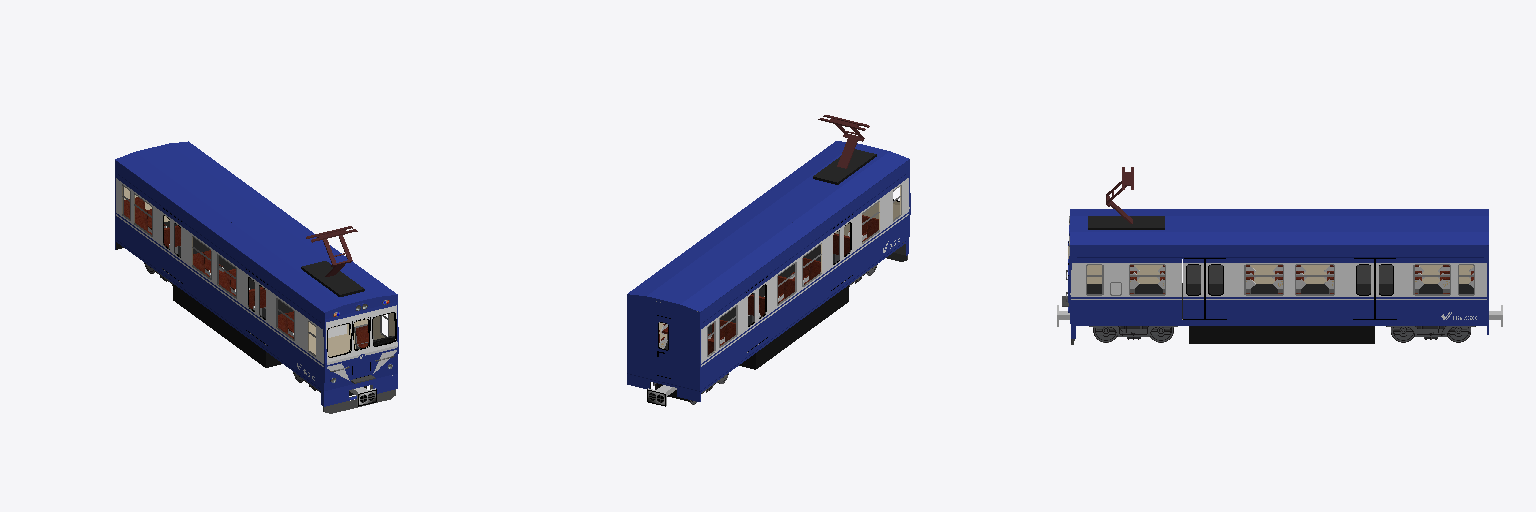
3 renders of one model, left to right at view 1: azimuth 30°, elevation 25°; view 2: azimuth 150°, elevation 25°; view 3: azimuth 270°, elevation 25°, orthographic.
Visible parts, largest first — view 1: body, body_inside, bogies, pantograph, door_RF, door_RB; view 2: body, body_inside, bogies, pantograph, door_RF, door_RB; view 3: body, bogies, body_inside, door_LF, door_LB, pantograph, door_RB_inside, door_RF_inside.
Boxes of the visible parts, box(x1,y1,x2,y2) form: body: box(115, 141, 398, 413); body_inside: box(116, 186, 395, 356); bogies: box(144, 263, 376, 406); pantograph: box(301, 226, 364, 296); door_RF: box(172, 215, 267, 345); door_RB: box(161, 207, 256, 337); body: box(627, 141, 910, 401); body_inside: box(650, 186, 900, 388); bogies: box(647, 264, 877, 406); pantograph: box(813, 115, 876, 184); door_RF: box(757, 214, 852, 344); door_RB: box(746, 222, 841, 352); body: box(1066, 209, 1488, 344); bogies: box(1057, 296, 1502, 343); body_inside: box(1068, 246, 1473, 319); door_LF: box(1205, 258, 1396, 319); door_LB: box(1183, 258, 1374, 319); pantograph: box(1088, 167, 1164, 229); door_RB_inside: box(1209, 265, 1392, 283); door_RF_inside: box(1187, 265, 1370, 283).
Bounding box in the file's own units: 2.37 × 4.81 × 12.43.
47 materials, 43 textured.